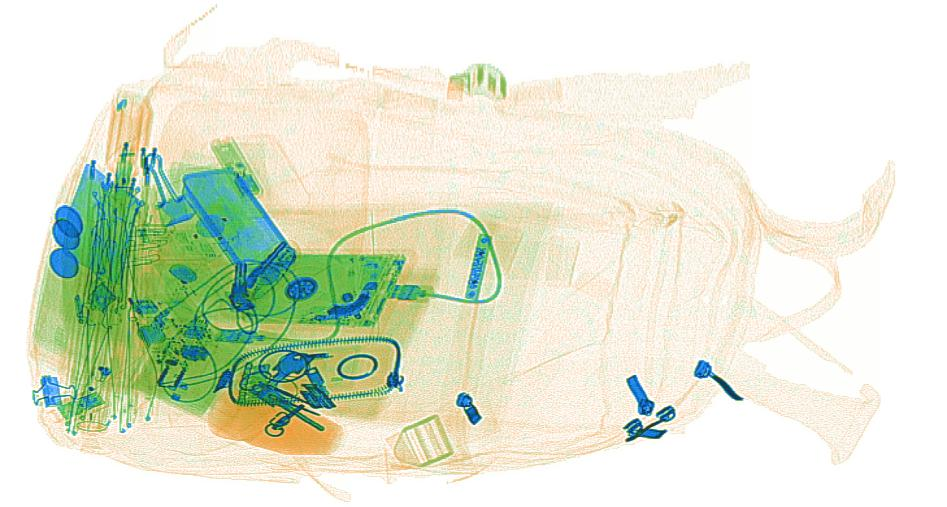USBFlashDisk: (209, 135, 261, 199), (56, 389, 105, 419)
